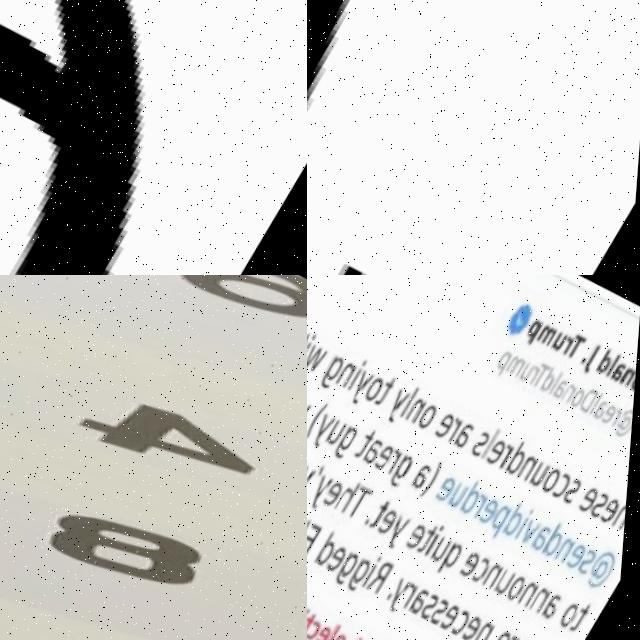4: (12, 318, 307, 553)
6: (0, 0, 307, 275), (121, 275, 307, 391)
8: (2, 452, 263, 640)
A: (453, 421, 481, 455), (410, 587, 438, 621), (534, 526, 561, 557), (363, 439, 390, 469), (545, 595, 570, 625), (413, 464, 437, 494), (551, 379, 574, 405), (611, 363, 632, 388), (595, 402, 613, 424)
C: (552, 472, 579, 505), (455, 610, 480, 639), (474, 558, 498, 587), (310, 620, 329, 640)
D: (504, 503, 536, 542), (317, 530, 348, 569), (461, 481, 492, 520), (507, 442, 537, 480), (545, 525, 574, 562), (596, 350, 621, 380), (580, 389, 604, 417), (542, 369, 562, 396)
E: (579, 486, 607, 520), (435, 409, 463, 443), (601, 499, 628, 530), (487, 438, 514, 469), (567, 544, 594, 575), (436, 476, 463, 507), (374, 444, 401, 475), (461, 552, 488, 583), (407, 523, 434, 554), (443, 604, 470, 635), (307, 521, 329, 559), (324, 480, 351, 510), (379, 509, 405, 540), (329, 545, 355, 576), (481, 500, 505, 529), (465, 615, 492, 640), (601, 405, 621, 429), (317, 624, 341, 640), (494, 629, 522, 640), (334, 632, 356, 640)
G: (318, 354, 350, 393), (390, 454, 422, 493), (348, 557, 380, 595), (337, 551, 368, 590), (334, 424, 365, 463)
H: (337, 478, 366, 515), (615, 497, 632, 535)
I: (366, 556, 388, 590), (349, 359, 371, 392), (518, 510, 540, 543), (428, 527, 450, 560), (307, 333, 319, 367), (307, 608, 316, 633)
J: (307, 0, 629, 275), (584, 347, 605, 377)
L: (483, 429, 504, 461), (401, 388, 422, 419), (606, 355, 624, 381), (591, 395, 608, 420), (550, 373, 567, 398), (307, 520, 316, 551), (331, 624, 348, 640)
M: (536, 324, 562, 350), (506, 356, 530, 381)
N: (485, 563, 512, 593), (519, 455, 544, 485), (335, 361, 360, 391), (533, 588, 558, 618), (521, 582, 546, 612), (406, 397, 430, 427), (558, 538, 582, 568), (477, 621, 502, 640), (620, 368, 639, 392), (563, 386, 580, 407)
O: (562, 602, 589, 635), (543, 467, 570, 498), (417, 404, 444, 434), (363, 376, 390, 406), (508, 576, 535, 606), (571, 390, 590, 412), (629, 373, 639, 398)
P: (489, 507, 517, 541), (522, 319, 547, 349), (494, 351, 515, 379)
Q: (440, 542, 472, 583)
R: (371, 559, 401, 597), (404, 583, 426, 612), (446, 418, 467, 446), (473, 493, 494, 521), (498, 445, 518, 473), (387, 450, 406, 476), (611, 410, 627, 432), (528, 367, 544, 388), (561, 338, 576, 358)
S: (563, 476, 591, 510), (423, 593, 449, 624), (592, 493, 617, 523), (472, 432, 497, 462), (434, 599, 459, 628), (580, 550, 604, 579)
T: (348, 485, 379, 524), (375, 376, 400, 411), (574, 604, 600, 637), (356, 428, 381, 462), (372, 499, 396, 532), (567, 334, 591, 364), (531, 363, 555, 393), (421, 525, 444, 556), (307, 610, 324, 639)
U: (530, 462, 557, 493), (433, 537, 459, 566), (450, 483, 475, 513), (498, 569, 523, 599), (328, 419, 352, 448), (550, 332, 571, 356), (520, 363, 538, 385)
V: (521, 520, 548, 551), (307, 464, 321, 495), (307, 400, 315, 430)
W: (307, 342, 331, 375)
Y: (307, 472, 338, 513), (383, 388, 414, 427), (309, 412, 340, 451), (387, 578, 418, 617), (386, 515, 417, 553), (348, 369, 378, 407)
